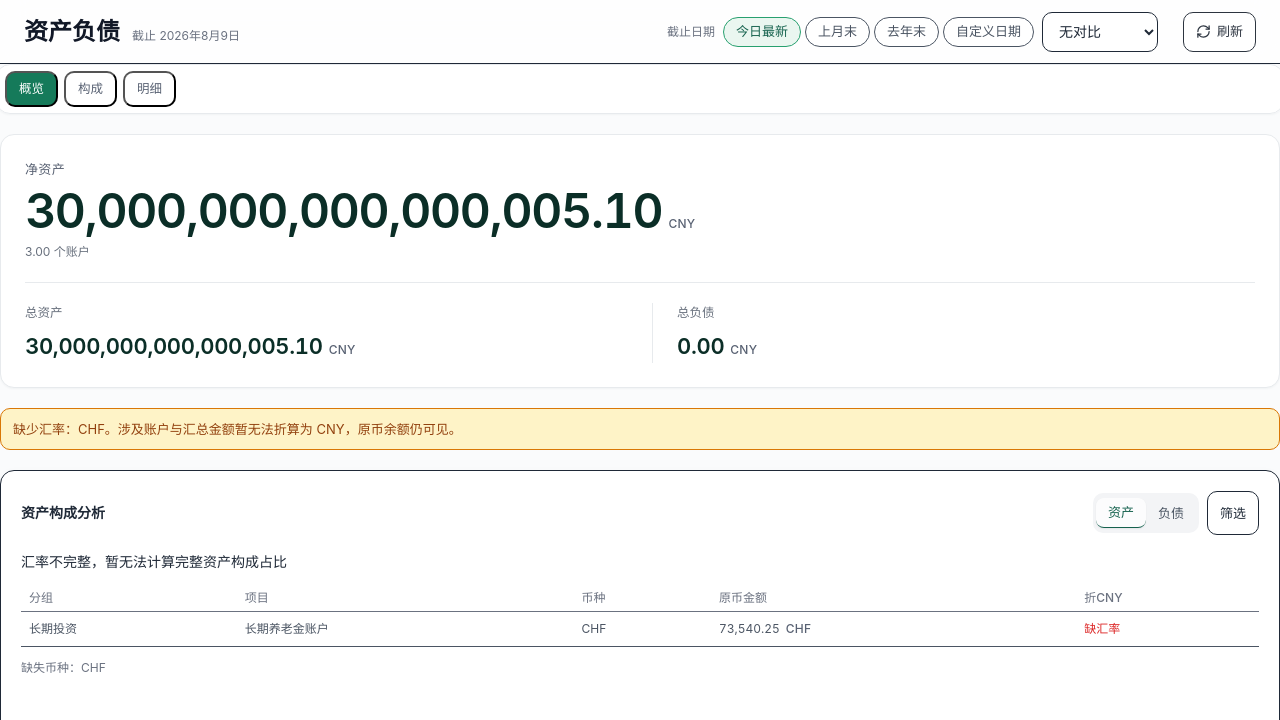
Test: BalanceSheetPage › 汇总卡差值走字符串精确域：>2^53 的差值不被 Intl 改掉低位（CALC-02 收尾）
Select "对比上月末" in the dropdown named "对比基准" at (1100, 32), box [1042,12,1158,52]
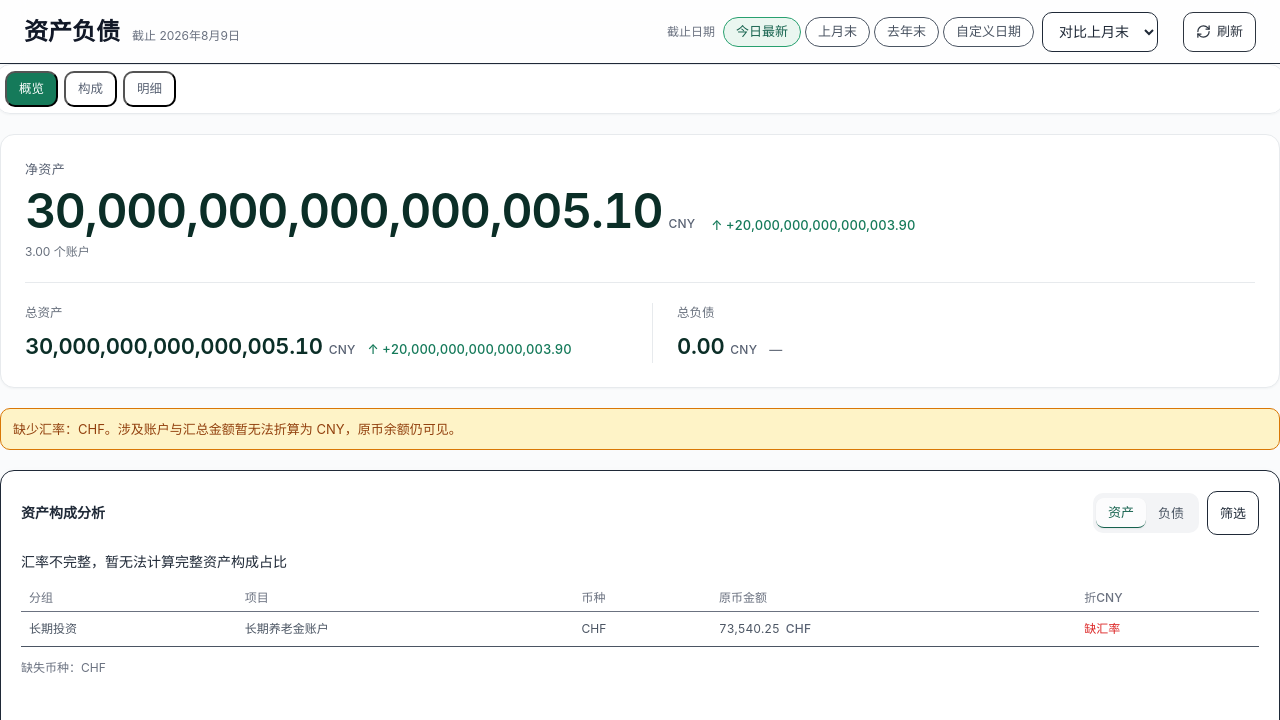
Now the text "↑ +20,000,000,000,000,003.90" below "总负债" is shown, box [368,338,572,359]
